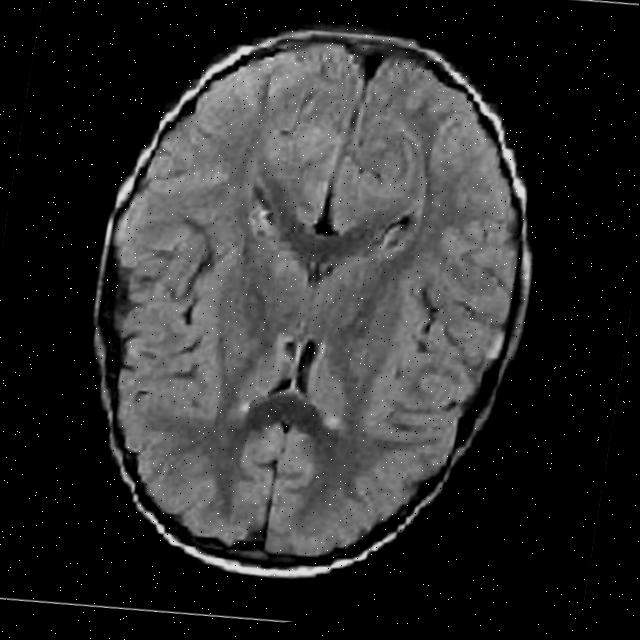NoTumor: (45, 0, 576, 623)
